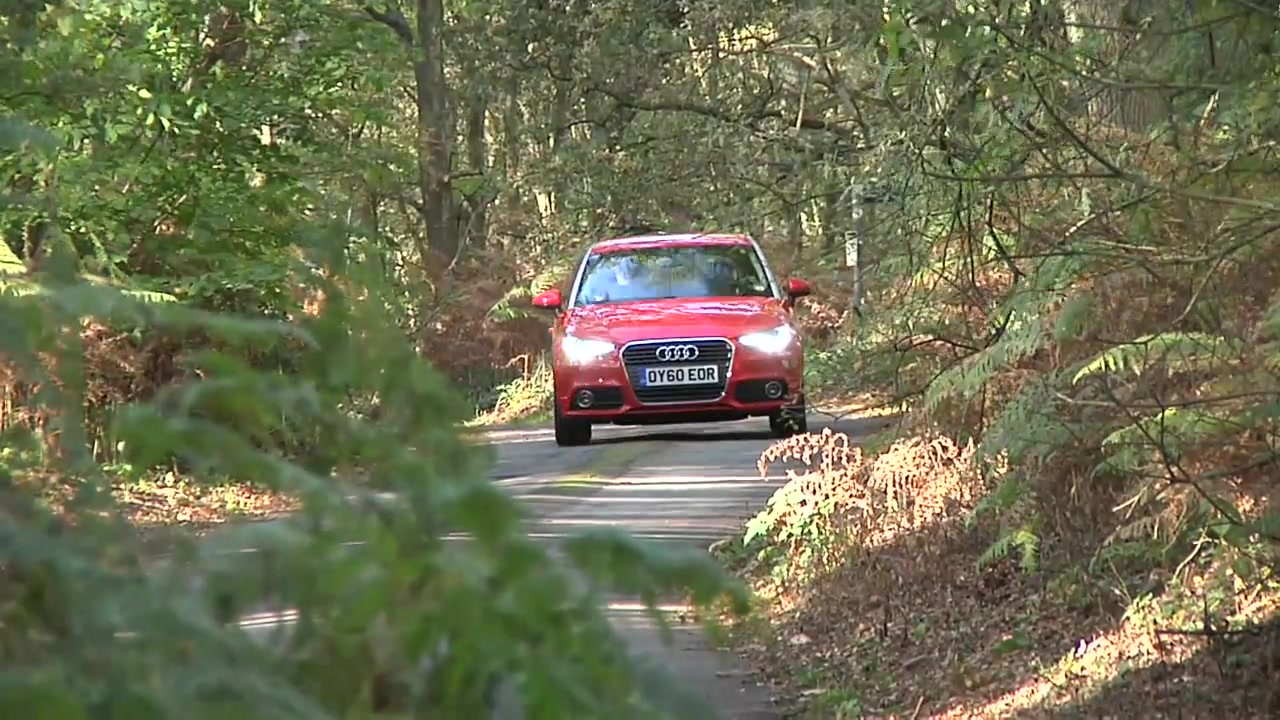car: (530, 226, 819, 447)
